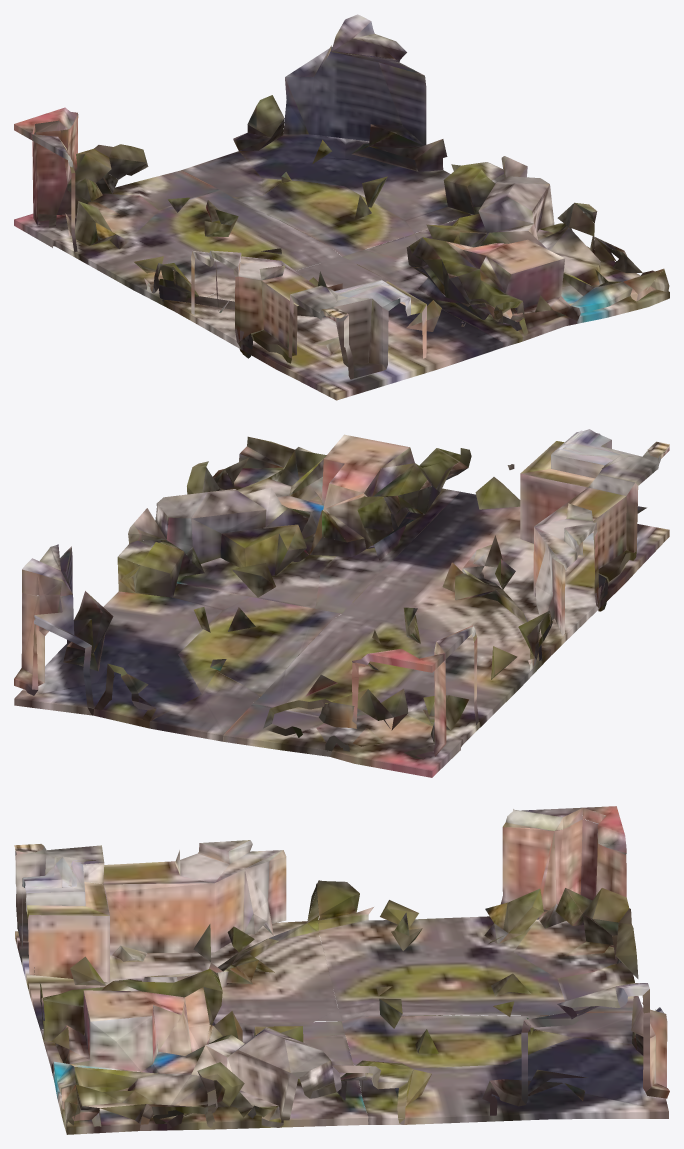
3 views of the same model, one above another, from view 1: azimuth 30°, elevation 25°; view 2: azimuth 150°, elevation 25°; view 3: azimuth 270°, elevation 25° (orthographic). The views are drawn at different scales.
Visible parts, largest first — view 1: Mesh_0; view 2: Mesh_0; view 3: Mesh_0.
Part boxes in pixels (x1=…): Mesh_0: x1=14, y1=14, x2=669, y2=400; Mesh_0: x1=14, y1=429, x2=669, y2=777; Mesh_0: x1=14, y1=806, x2=669, y2=1134.
Bounding box in the file's own units: 133 × 36.72 × 165.
2 materials, 2 textured.
